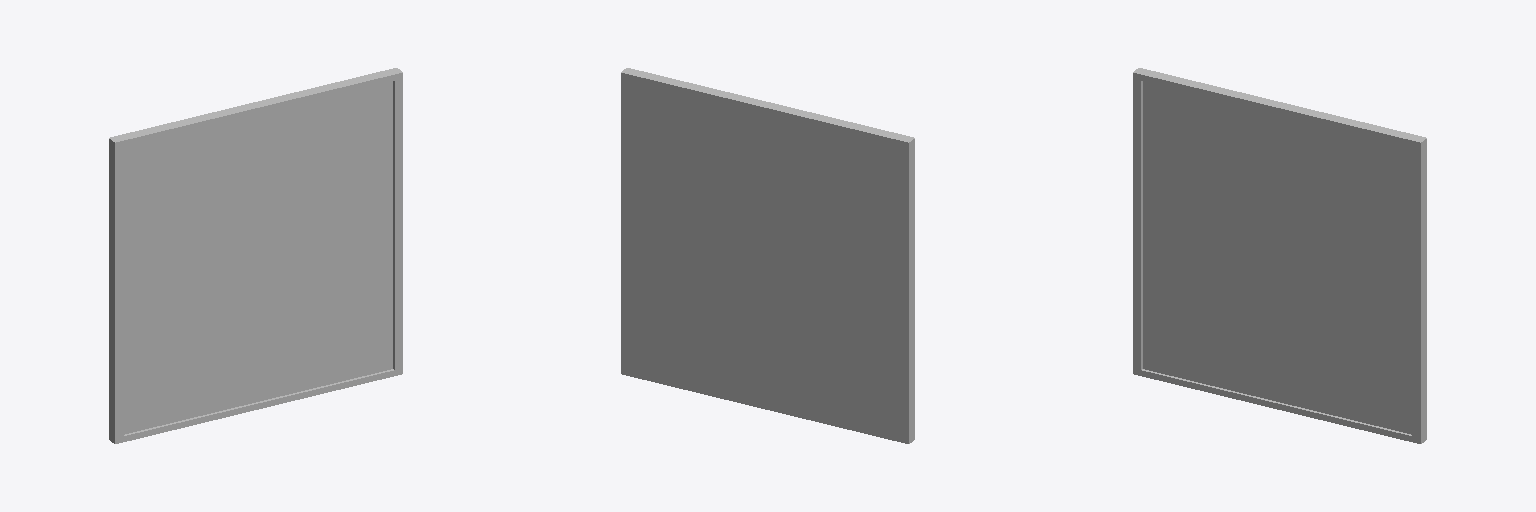
Rendered from Wall_base_001_obj.obj.
3 views of the same model, side by side, from view 1: azimuth 30°, elevation 25°; view 2: azimuth 150°, elevation 25°; view 3: azimuth 330°, elevation 25° (orthographic).
Visible parts, largest first — view 1: Wall_base_001_obj.obj; view 2: Wall_base_001_obj.obj; view 3: Wall_base_001_obj.obj.
Part boxes in pixels (left/top/right/bottom): Wall_base_001_obj.obj: left=109, top=68, right=402, bottom=443; Wall_base_001_obj.obj: left=621, top=68, right=914, bottom=443; Wall_base_001_obj.obj: left=1133, top=68, right=1426, bottom=443.
Size of the model in its own units: 398 by 398 by 15.93.